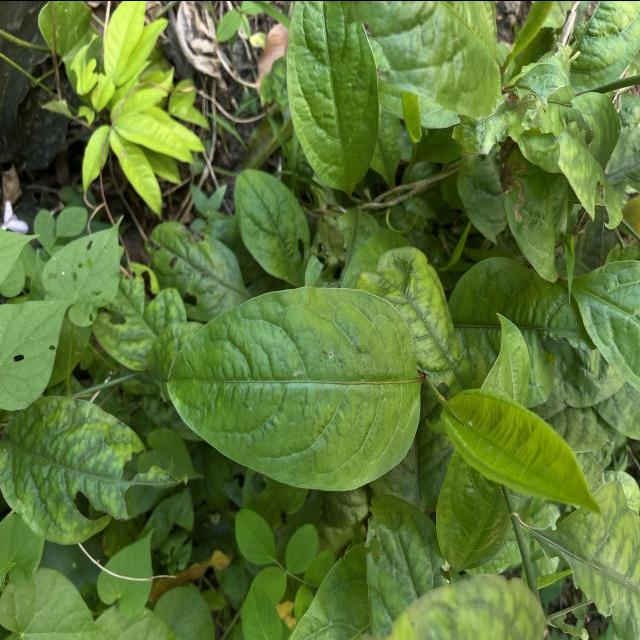Plumbago indica: (162, 280, 430, 496), (443, 382, 610, 512), (282, 1, 382, 190)
